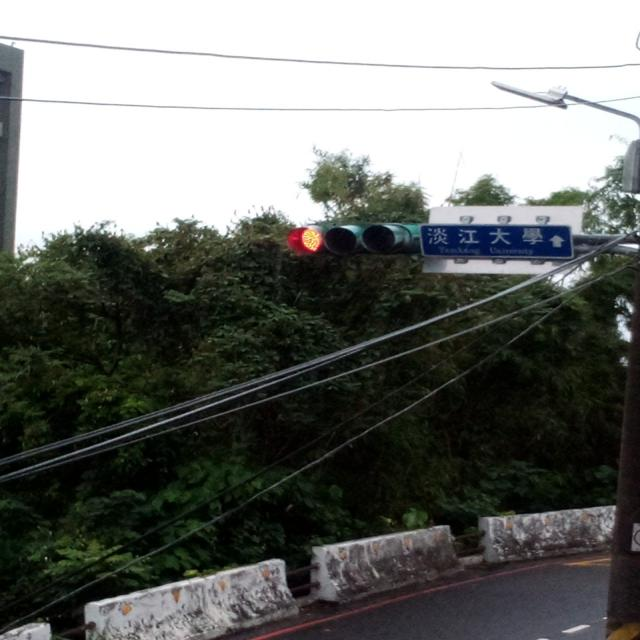red light: (287, 221, 414, 258)
